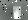person: (14, 4, 22, 19)
